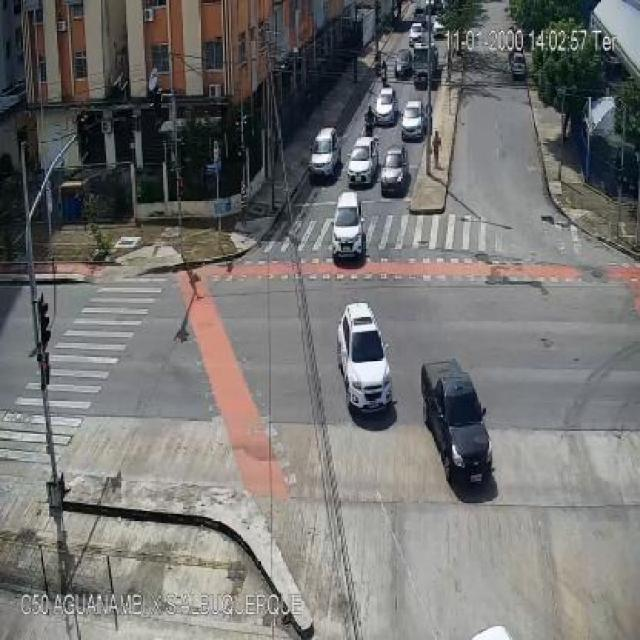Car: (338, 303, 391, 413), (332, 192, 365, 259), (308, 128, 342, 180), (380, 144, 409, 195), (348, 137, 378, 186), (400, 101, 426, 140), (375, 87, 398, 125), (393, 48, 412, 78), (408, 23, 425, 46), (511, 54, 527, 78)
Cycle: (362, 113, 376, 136)
Truck: (421, 360, 494, 488), (412, 40, 436, 88)
